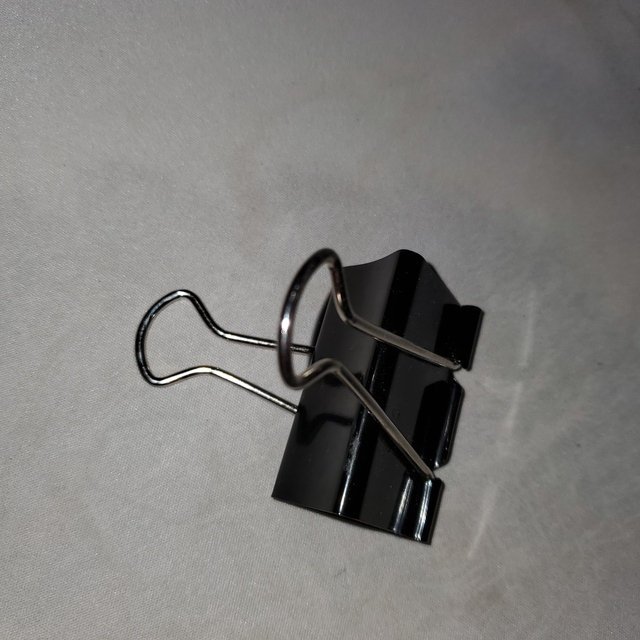clip: (124, 243, 488, 552)
